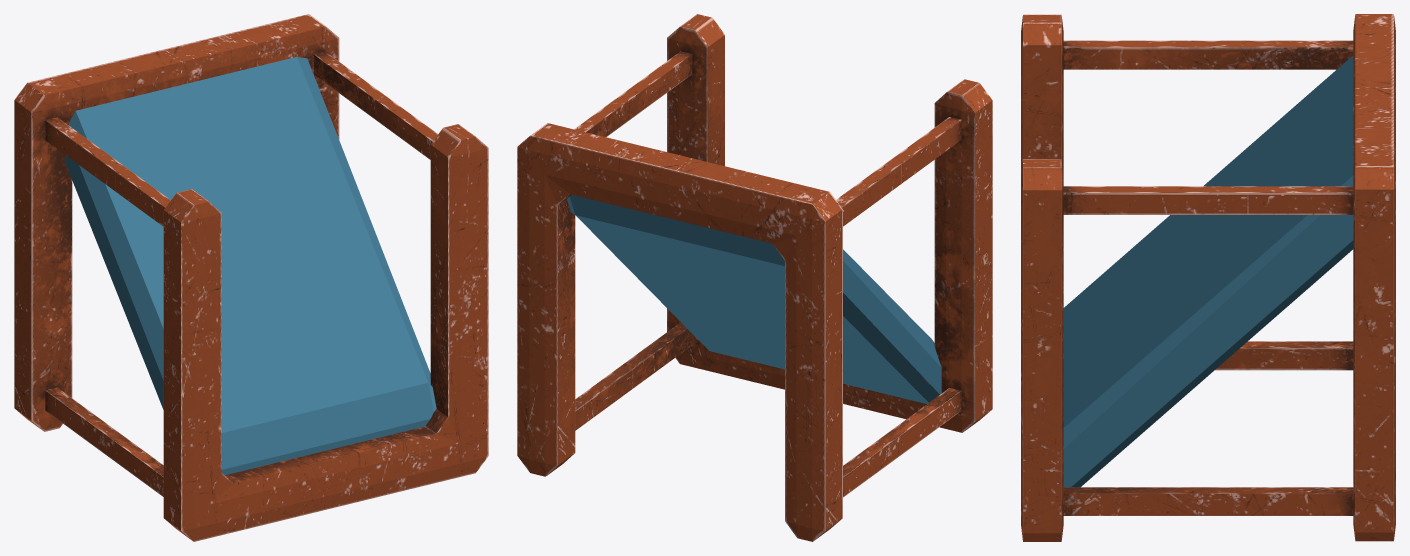
The model's file is Mirror.gltf.
3 views of the same model, side by side, from view 1: azimuth 30°, elevation 25°; view 2: azimuth 150°, elevation 25°; view 3: azimuth 270°, elevation 25° (orthographic). The views are drawn at different scales.
Parts seen in each view (by area): view 1: Cube.032; view 2: Cube.032; view 3: Cube.032.
Part boxes in pixels (x1,y1,x2,y2): Cube.032: [14, 14, 488, 541]; Cube.032: [517, 14, 992, 541]; Cube.032: [1021, 14, 1395, 541].
Bounding box in the file's own units: 2.54 × 2.66 × 2.41.
2 materials, 2 textured.
